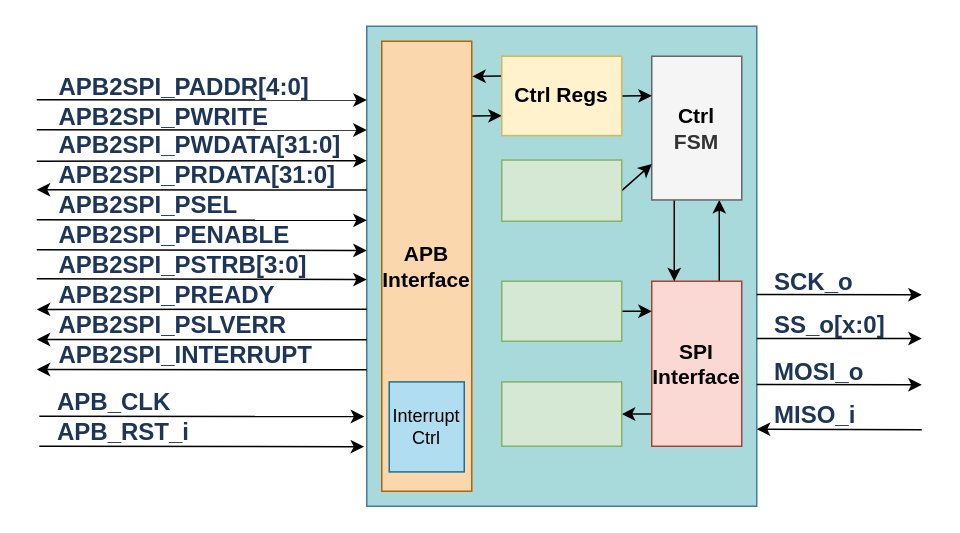
The diagram is 960 pixels wide and 533 high, and some of its shapes have lost their labels. The shapes that lost their labels are listed below. From the top down, each one's box as (x1, y1, x2, y2) in pixels, then its label:
(500, 159, 622, 221): CMD FIFO
(500, 280, 622, 341): TX FIFO
(500, 380, 622, 446): RX FIFO
